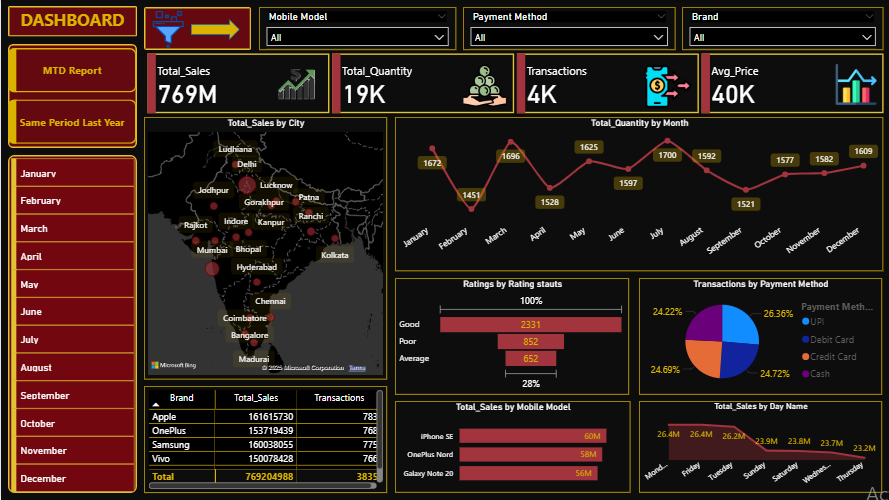

What the dashboard file says about the page in this screenshot:
{"tool":"powerbi","page":{"name":"Dashboard","canvas":[1280,720],"ordinal":0},"visuals":[{"type":"shape","box":[9.6,8.3,185.8,44],"z":0},{"type":"shape","box":[10.1,63.4,185.8,149.8],"z":1000},{"type":"shape","box":[10.1,223.2,185.8,486.7],"z":2000},{"type":"advancedSlicerVisual","fields":{"Values":["Custom_calendar.Date.Variation.Date Hierarchy.Month"]},"box":[10.1,223.2,187.2,496.8],"z":3000},{"type":"cardVisual","fields":{"Data":["Mobile_sales_data.Total_Sales","Mobile_sales_data.Total_Quantity","Mobile_sales_data.Transactions","Mobile_sales_data.Avg_Price"]},"box":[206.5,71.6,1073.5,96.3],"z":4000},{"type":"slicer","fields":{"Values":["Mobile_sales_data.Mobile Model"]},"box":[371.6,9.6,283.5,61.9],"z":5000},{"type":"slicer","fields":{"Values":["Mobile_sales_data.Payment Method"]},"box":[664.8,9.6,305.5,61.9],"z":6000},{"type":"slicer","fields":{"Values":["Mobile_sales_data.Brand"]},"box":[980,9.6,290.4,61.9],"z":7000},{"type":"shape","box":[206.5,9.6,154.2,61.9],"z":8000},{"type":"image","box":[196.8,9.6,86.7,64.7],"z":9000},{"type":"shape","box":[273.9,27.5,70.2,30.3],"z":10000},{"type":"map","fields":{"Category":["Mobile_sales_data.City"],"Size":["Mobile_sales_data.Total_Sales"]},"box":[206.5,167.9,349.6,378.5],"z":11000},{"type":"lineChart","fields":{"Category":["Custom_calendar.Date.Variation.Date Hierarchy.Month"],"Y":["Mobile_sales_data.Total_Quantity"]},"box":[567.1,167.9,703.3,221.6],"z":12000},{"type":"funnel","title":" Ratings by Rating stauts","fields":{"Y":["CountNonNull(Mobile_sales_data.Customer Ratings)"],"Category":["Mobile_sales_data.Rating stauts"]},"box":[567.1,400.5,337.2,167.9],"z":13000},{"type":"pieChart","fields":{"Y":["Mobile_sales_data.Transactions"],"Category":["Mobile_sales_data.Payment Method"]},"box":[918,400.5,349.6,167.9],"z":14000},{"type":"clusteredBarChart","fields":{"Y":["Mobile_sales_data.Total_Sales"],"Category":["Mobile_sales_data.Mobile Model"]},"box":[567.1,578.1,338.6,132.1],"z":15000},{"type":"areaChart","fields":{"Y":["Mobile_sales_data.Total_Sales"],"Category":["Custom_calendar.Day Name"]},"box":[918,578.1,349.6,132.1],"z":16000},{"type":"tableEx","fields":{"Values":["Mobile_sales_data.Brand","Mobile_sales_data.Total_Sales","Mobile_sales_data.Transactions"]},"box":[206.5,556,349.6,154.2],"z":17000},{"type":"textbox","box":[23.4,5.5,159.7,48.2],"z":18000},{"type":"pageNavigator","box":[10.1,69.1,185.8,138.2],"z":19000}]}

Visuals, with their boxes in screenshot pixels (x1, y1, x2, y2), scaled from the page's 1280x720 canvas onto the 889x500 screenshot:
shape: box=[7, 6, 136, 36]
shape: box=[7, 44, 136, 148]
shape: box=[7, 155, 136, 493]
advancedSlicerVisual - Custom_calendar.Date.Variation.Date Hierarchy.Month: box=[7, 155, 137, 499]
cardVisual - Mobile_sales_data.Total_Sales x Mobile_sales_data.Total_Quantity: box=[143, 50, 888, 117]
slicer - Mobile_sales_data.Mobile Model: box=[258, 7, 455, 50]
slicer - Mobile_sales_data.Payment Method: box=[462, 7, 674, 50]
slicer - Mobile_sales_data.Brand: box=[681, 7, 882, 50]
shape: box=[143, 7, 251, 50]
image: box=[137, 7, 197, 52]
shape: box=[190, 19, 239, 40]
map - Mobile_sales_data.City x Mobile_sales_data.Total_Sales: box=[143, 117, 386, 379]
lineChart - Custom_calendar.Date.Variation.Date Hierarchy.Month x Mobile_sales_data.Total_Quantity: box=[394, 117, 882, 270]
" Ratings by Rating stauts" funnel: box=[394, 278, 628, 395]
pieChart - Mobile_sales_data.Transactions x Mobile_sales_data.Payment Method: box=[638, 278, 880, 395]
clusteredBarChart - Mobile_sales_data.Total_Sales x Mobile_sales_data.Mobile Model: box=[394, 401, 629, 493]
areaChart - Mobile_sales_data.Total_Sales x Custom_calendar.Day Name: box=[638, 401, 880, 493]
tableEx - Mobile_sales_data.Brand x Mobile_sales_data.Total_Sales: box=[143, 386, 386, 493]
textbox: box=[16, 4, 127, 37]
pageNavigator: box=[7, 48, 136, 144]
